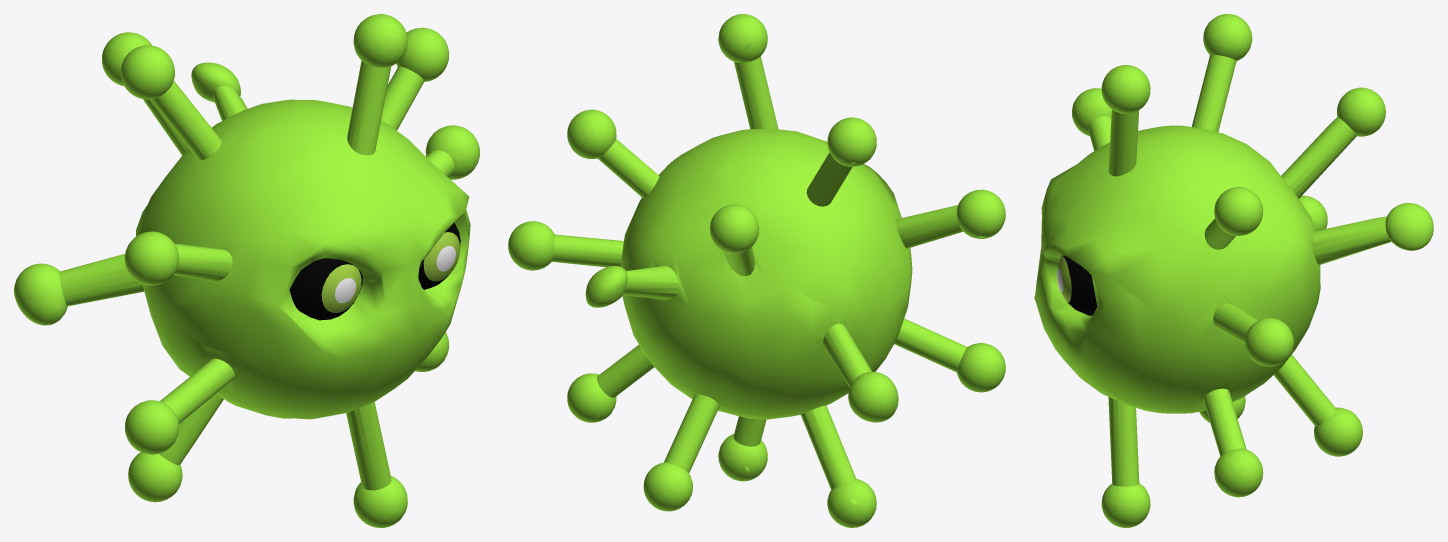
Rendered from Germ II_Textured.fbx.
The picture shows the model from 3 angles, left to right: view 1: azimuth 30°, elevation 25°; view 2: azimuth 150°, elevation 25°; view 3: azimuth 270°, elevation 25°; orthographic projection. The views are drawn at different scales.
Parts seen in each view (by area): view 1: Sphere004, Sphere018, Sphere019; view 2: Sphere004; view 3: Sphere004, Sphere019.
Boxes of the visible parts, x1=… form: Sphere004: x1=14, y1=14, x2=479, y2=527; Sphere018: x1=289, y1=258, x2=362, y2=320; Sphere019: x1=418, y1=222, x2=460, y2=289; Sphere004: x1=508, y1=14, x2=1005, y2=527; Sphere004: x1=1034, y1=14, x2=1433, y2=527; Sphere019: x1=1057, y1=255, x2=1097, y2=315.
Size of the model in its own units: 2.35 by 2.57 by 2.03.
